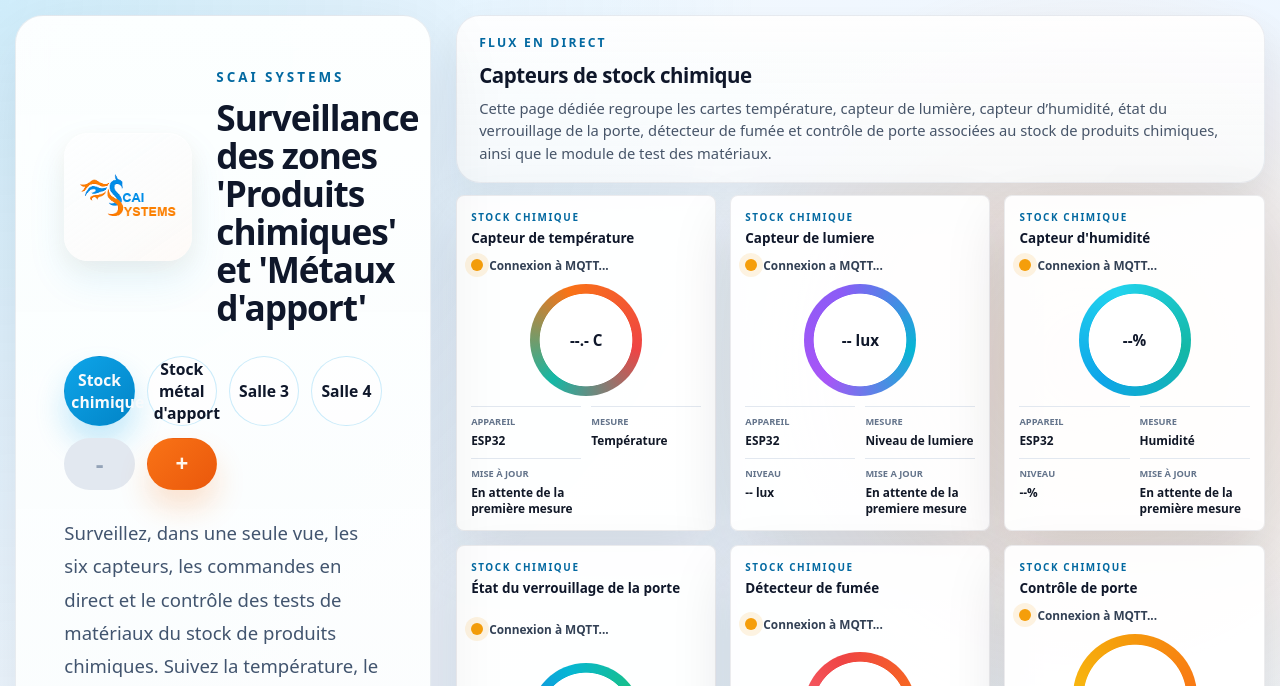
removes the active extra room page
The image size is (1280, 686).
Click the button named "ajouter une salle" at [182, 464], box [147,438,217,490]
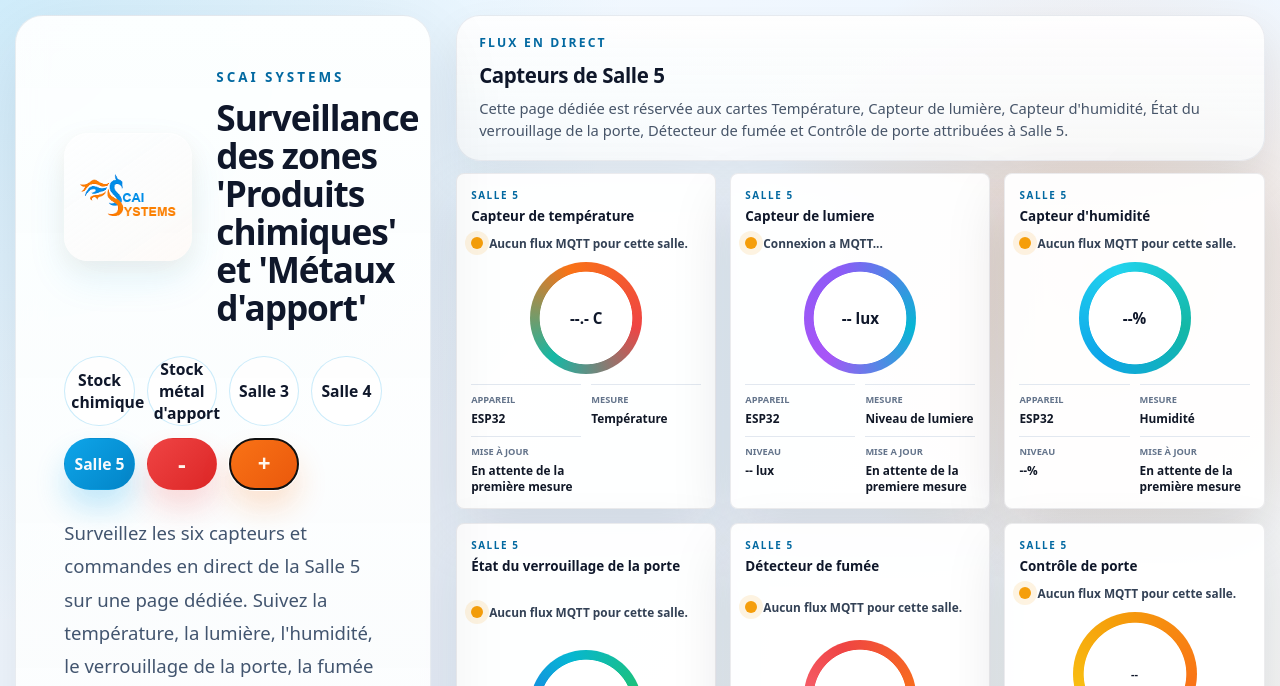
Click the button named "supprimer la salle active" at [182, 464], box [147,438,217,490]
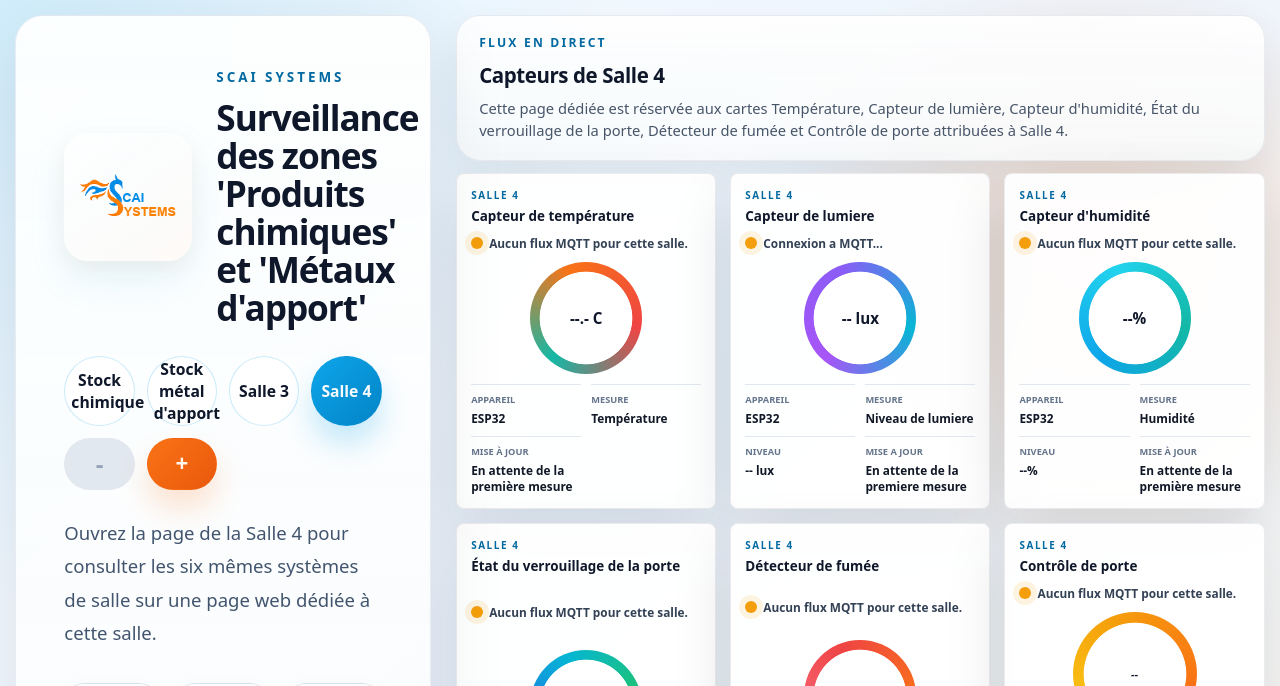
Expected: the heading "Surveillance des zones 'Produits chimiques' et 'Métaux d'apport'" is shown, [216,98,418,326]
Now the button "Salle 5" is gone
